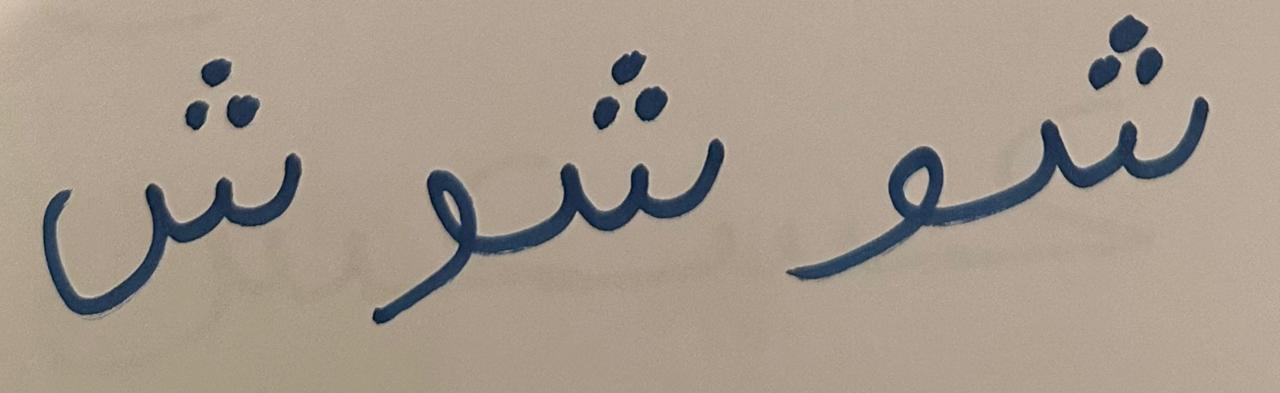tah: (13, 6, 322, 363), (964, 4, 1243, 298), (507, 12, 744, 324)
yeh: (747, 30, 959, 324), (325, 65, 504, 363)
